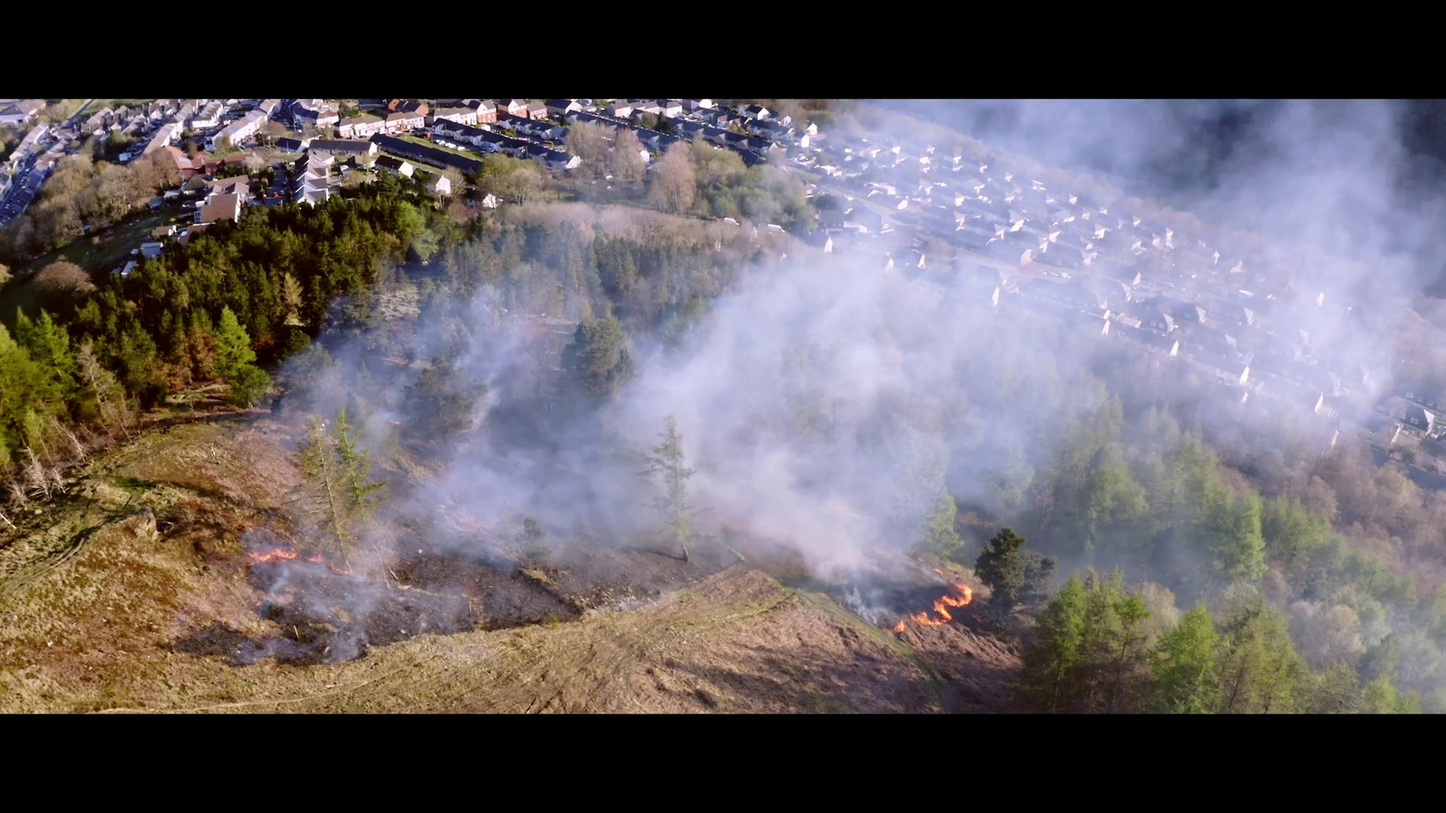forest_fire: (892, 583, 972, 632), (247, 547, 352, 574), (935, 568, 941, 575)
